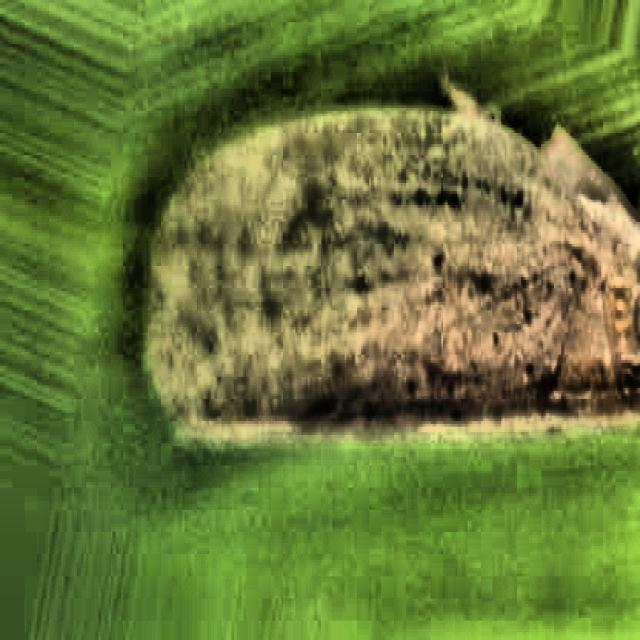Pyrilla-perpusilla: (123, 77, 640, 545)
